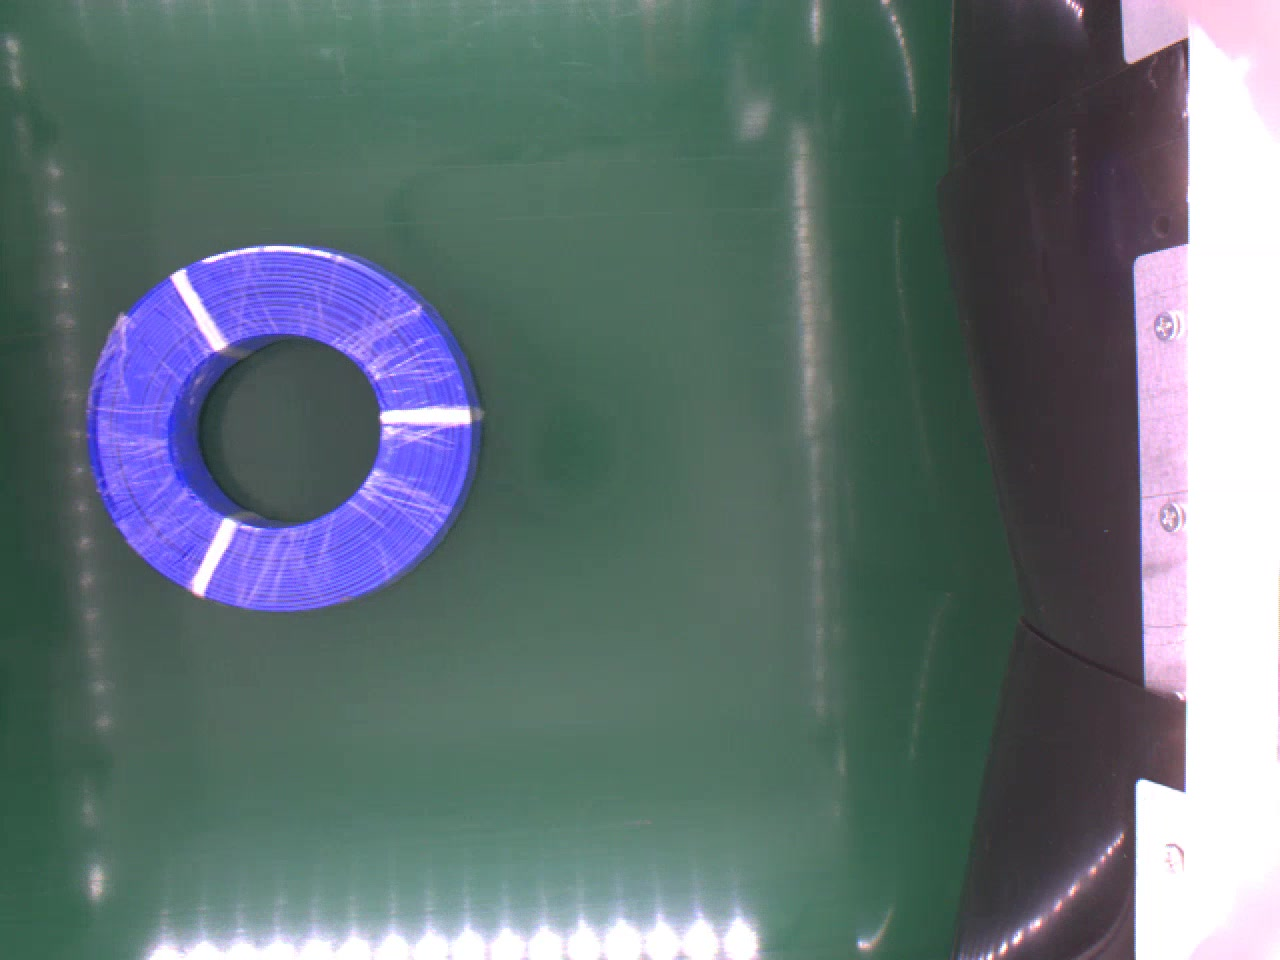blue: (86, 243, 483, 612)
